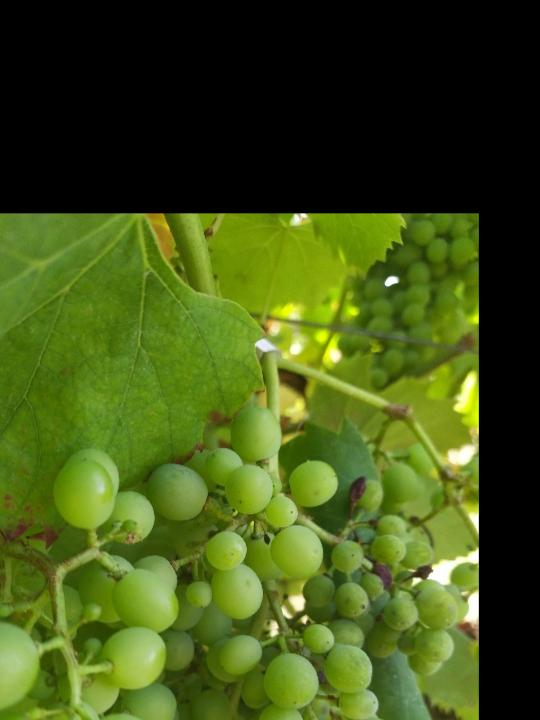grape: (219, 407, 469, 720), (0, 450, 207, 720)
